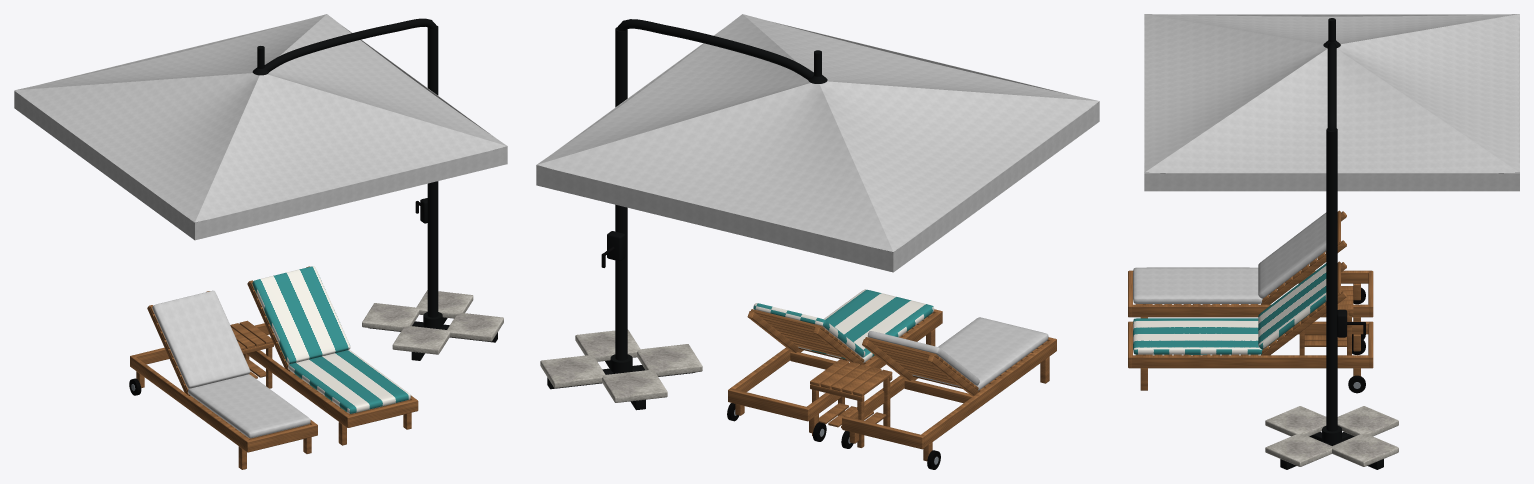
Rendered from pool_deck_set.obj.
The picture shows the model from 3 angles, left to right: view 1: azimuth 30°, elevation 25°; view 2: azimuth 150°, elevation 25°; view 3: azimuth 270°, elevation 25°; orthographic projection. The views are drawn at different scales.
Bounding box in the file's own units: 3.68 × 3.01 × 3.13.
Materials: 8 (4 with a texture image).
